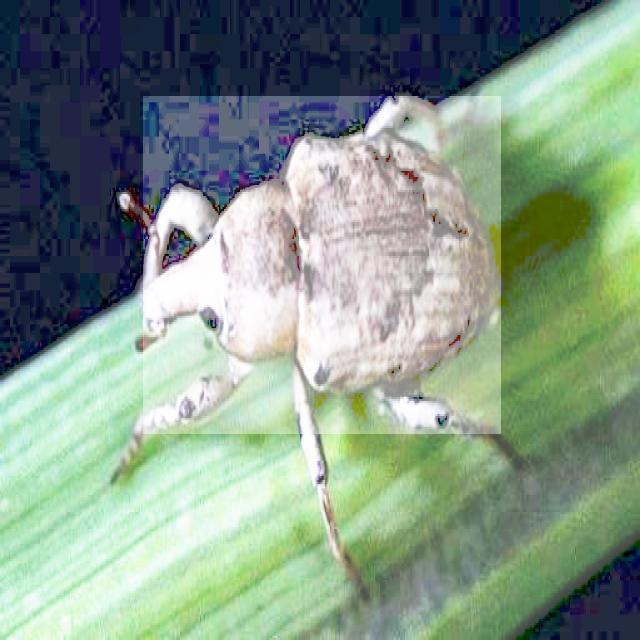rice-bug: (144, 96, 502, 434)
